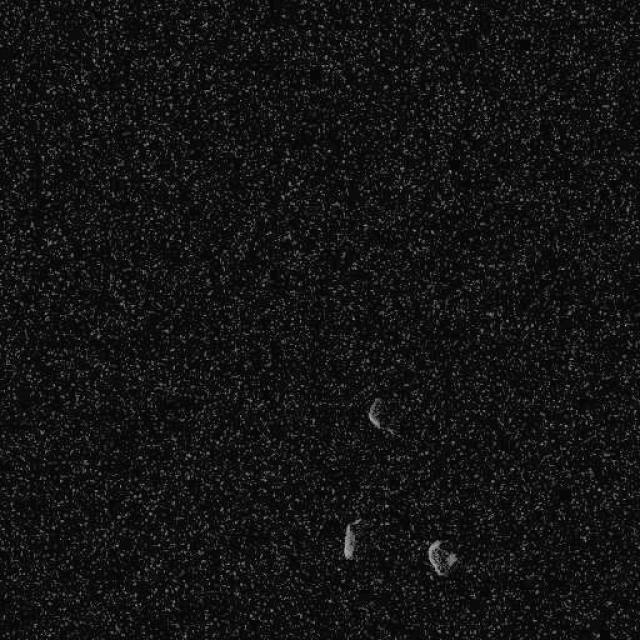D2: (366, 395, 402, 437), (426, 538, 459, 578), (341, 519, 360, 560)
